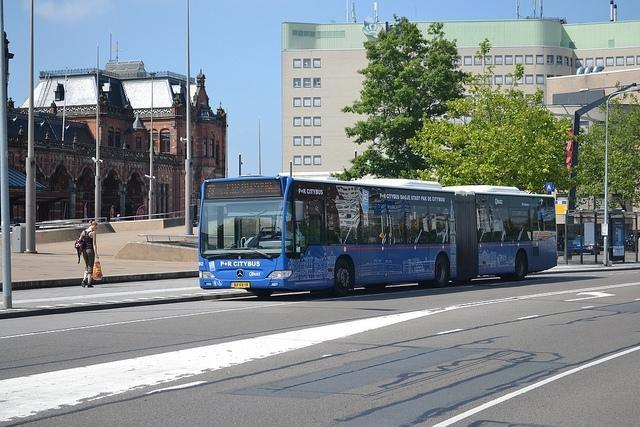bus: (196, 175, 558, 298)
